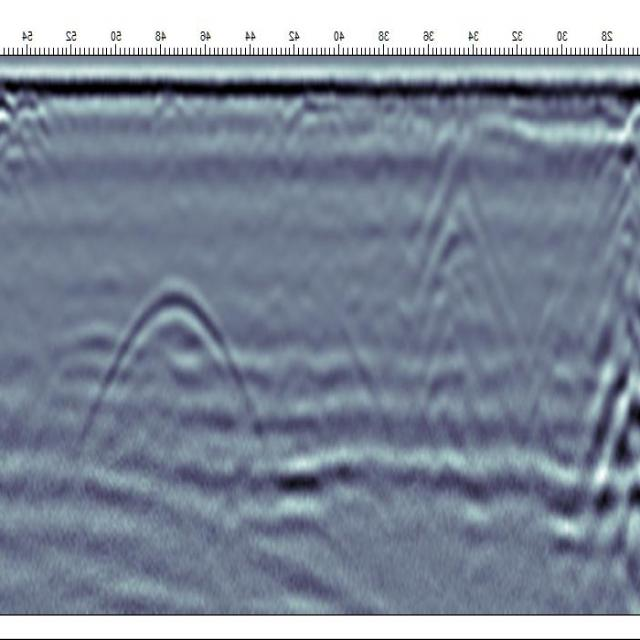hyperbola: (67, 274, 265, 460)
